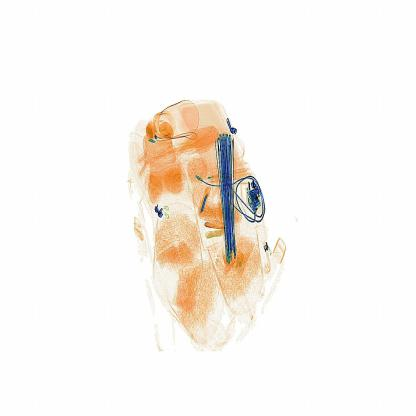wrench: (191, 179, 211, 222)
